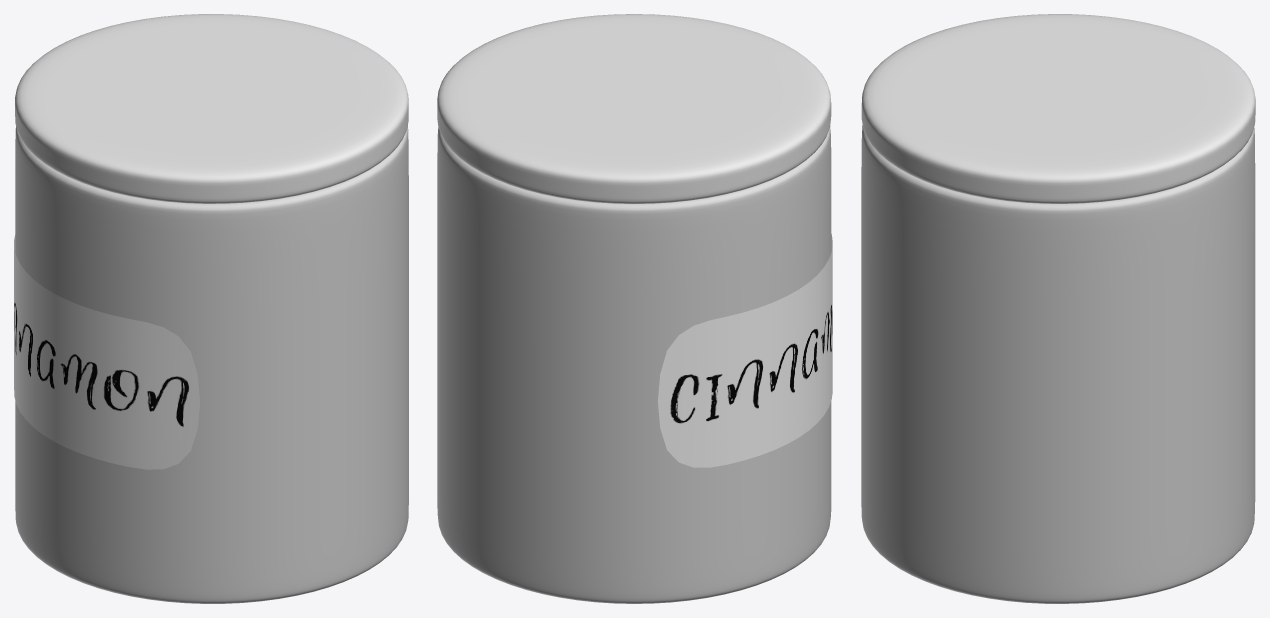
File: cinnamon-jar.fbx
The picture shows the model from 3 angles, left to right: view 1: azimuth 30°, elevation 25°; view 2: azimuth 150°, elevation 25°; view 3: azimuth 270°, elevation 25°; orthographic projection.
Parts seen in each view (by area): view 1: jar.002, jar-cap.002, label.002; view 2: jar.002, jar-cap.002, label.002; view 3: jar.002, jar-cap.002.
Part boxes in pixels (<box>): jar.002: <box>15,125,408,603</box>; jar-cap.002: <box>15,14,408,203</box>; label.002: <box>14,235,199,469</box>; jar.002: <box>437,126,831,603</box>; jar-cap.002: <box>437,14,831,203</box>; label.002: <box>658,234,832,467</box>; jar.002: <box>861,125,1255,603</box>; jar-cap.002: <box>861,14,1255,203</box>.
Size of the model in its own units: 196 by 235 by 195.
